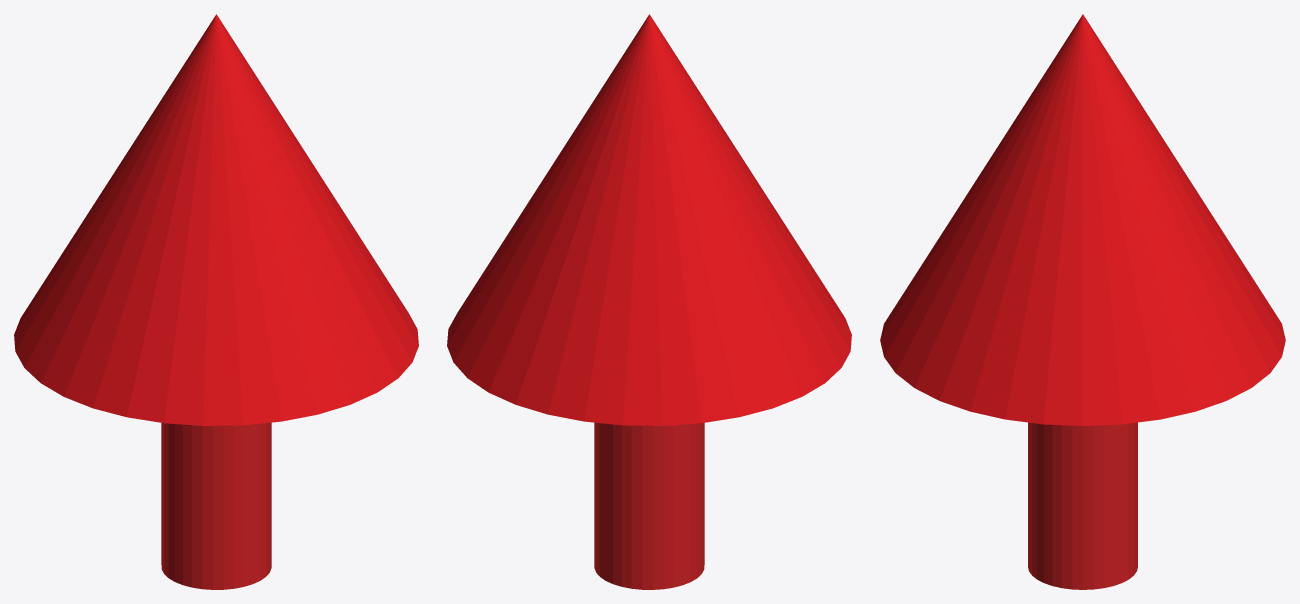
The model's file is arrow.glb.
3 views of the same model, side by side, from view 1: azimuth 30°, elevation 25°; view 2: azimuth 150°, elevation 25°; view 3: azimuth 270°, elevation 25° (orthographic).
Parts seen in each view (by area): view 1: Cone, Cylinder; view 2: Cone, Cylinder; view 3: Cone, Cylinder.
Boxes of the visible parts, bbox=[...] form: Cone: bbox=[14, 14, 418, 425]; Cylinder: bbox=[161, 422, 271, 589]; Cone: bbox=[447, 14, 851, 425]; Cylinder: bbox=[594, 422, 704, 589]; Cone: bbox=[880, 14, 1285, 425]; Cylinder: bbox=[1028, 422, 1137, 589].
Size of the model in its own units: 2.88 by 4.33 by 2.88.
